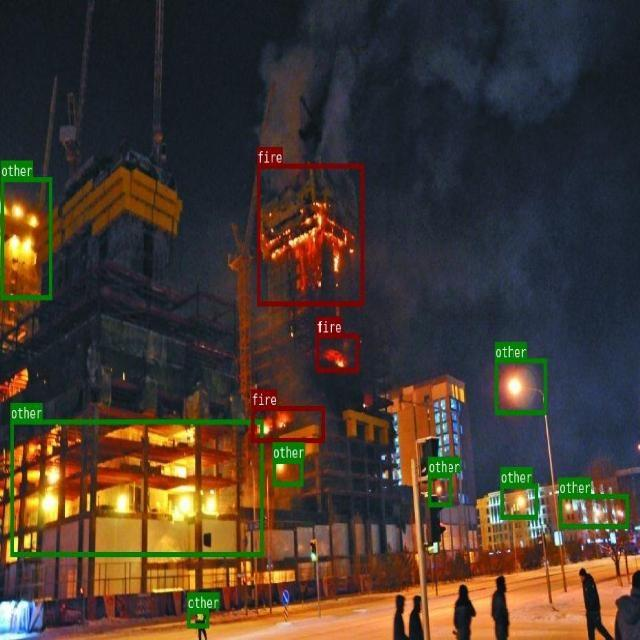fire: (256, 163, 363, 305), (251, 405, 324, 441), (316, 333, 358, 371)
